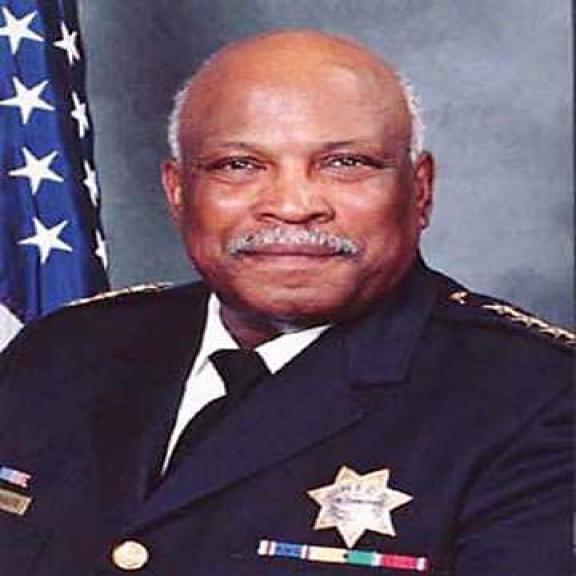face: (166, 97, 446, 314)
